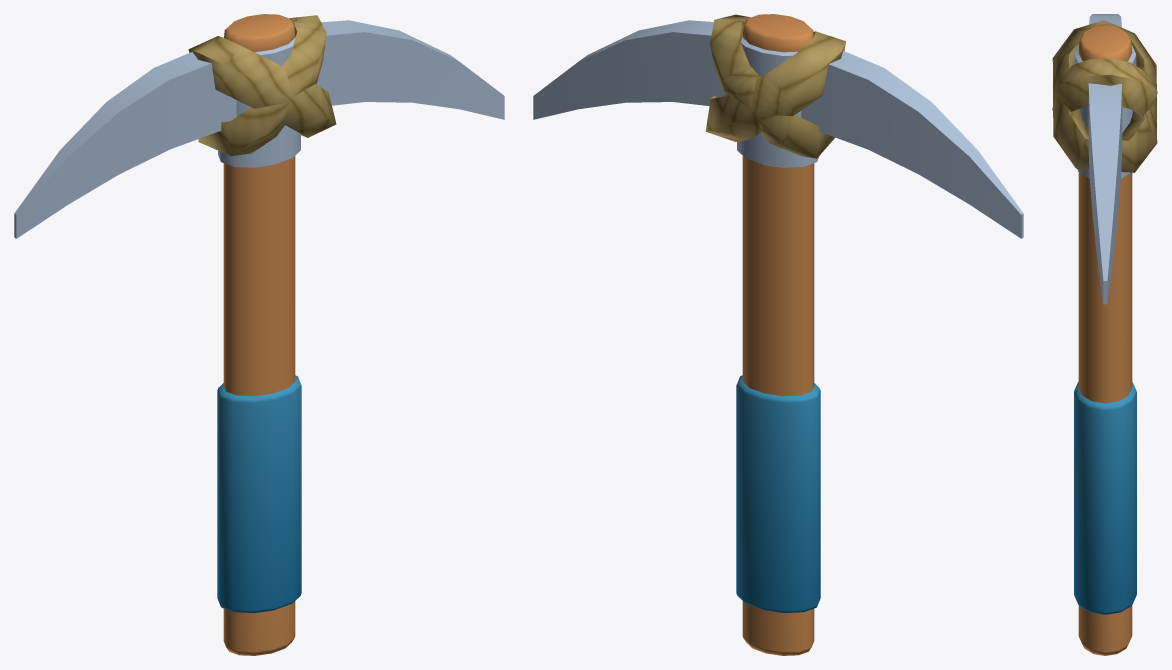
The model's file is Pick.fbx.
The picture shows the model from 3 angles, left to right: view 1: azimuth 30°, elevation 25°; view 2: azimuth 150°, elevation 25°; view 3: azimuth 270°, elevation 25°; orthographic projection. The views are drawn at different scales.
Visible parts, largest first — view 1: Pick; view 2: Pick; view 3: Pick.
Part boxes in pixels (<box>): Pick: <box>14,14,504,655</box>; Pick: <box>533,14,1023,655</box>; Pick: <box>1052,14,1157,655</box>.
Size of the model in its own units: 0.4516 by 0.5474 by 0.087.
